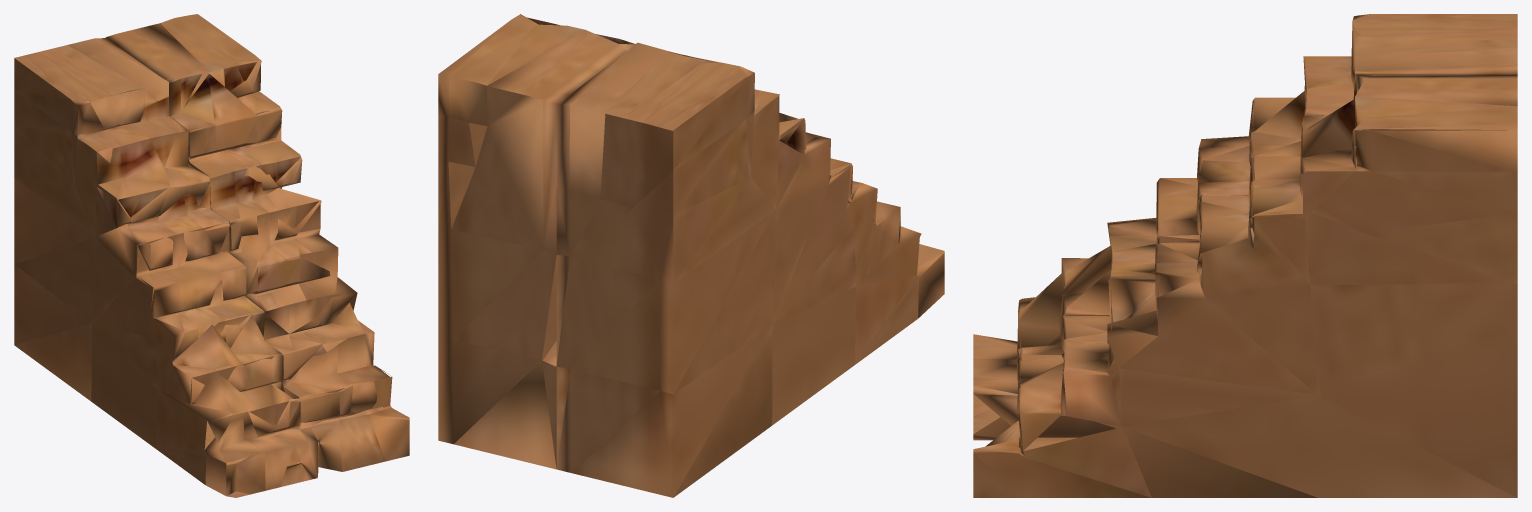
The model's file is stairs-wood.lod2.glb.
3 views of the same model, side by side, from view 1: azimuth 30°, elevation 25°; view 2: azimuth 150°, elevation 25°; view 3: azimuth 270°, elevation 25° (orthographic). The views are drawn at different scales.
Size of the model in its own units: 2 by 3 by 4.
1 material, 1 textured.
